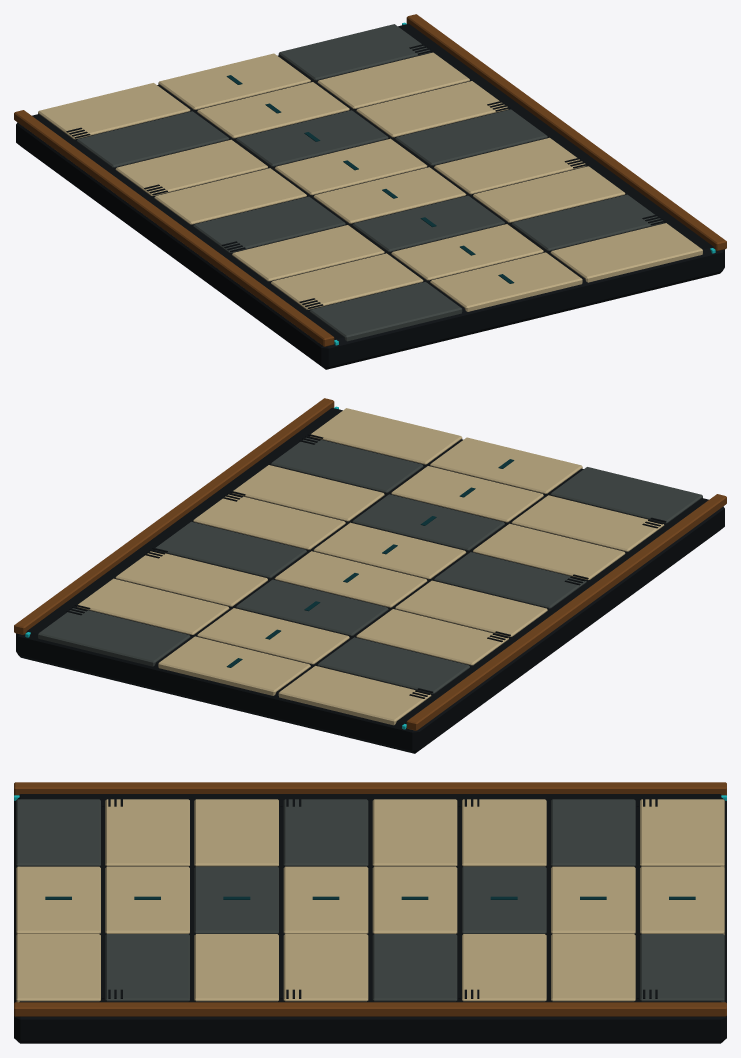
File: track-straight.glb
3 views of the same model, one above another, from view 1: azimuth 30°, elevation 25°; view 2: azimuth 150°, elevation 25°; view 3: azimuth 270°, elevation 25° (orthographic). The views are drawn at different scales.
Parts seen in each view (by area): view 1: track-straight; view 2: track-straight; view 3: track-straight.
Boxes of the visible parts, <box> form: track-straight: <box>14,14,726,369</box>; track-straight: <box>14,398,726,753</box>; track-straight: <box>14,782,726,1043</box>.
Bounding box in the file's own units: 6 × 0.48 × 8.
Materials: 1 (1 with a texture image).
